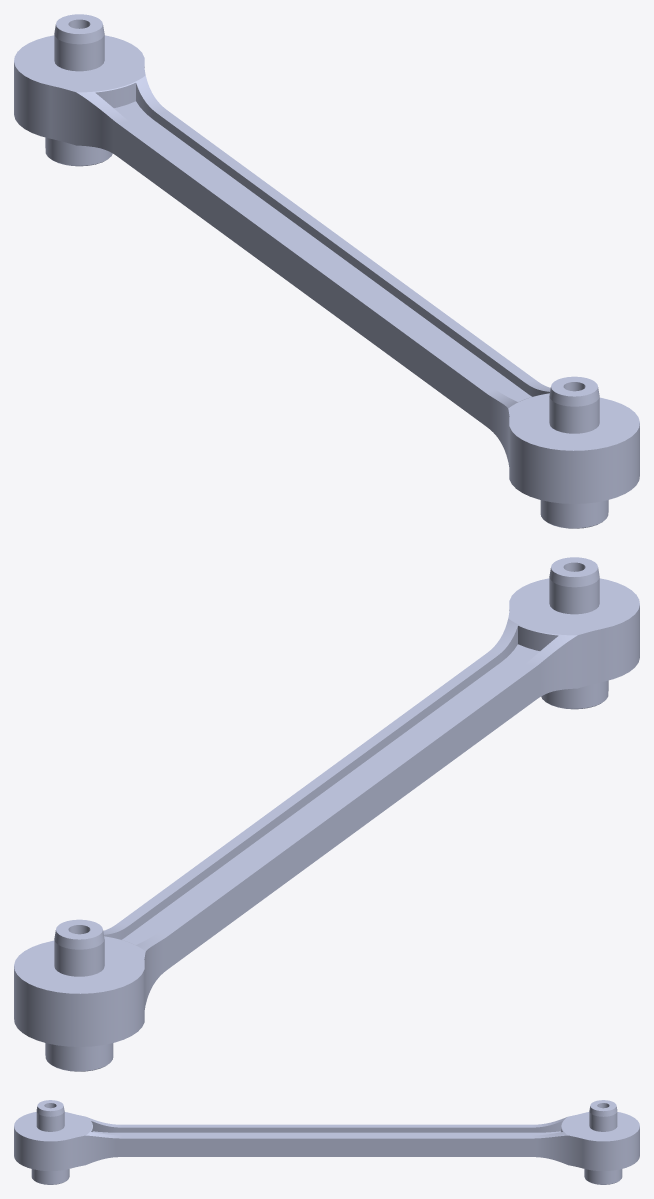
The model's file is IRB460_P_LINK.glb.
3 renders of one model, top to bottom at view 1: azimuth 30°, elevation 25°; view 2: azimuth 150°, elevation 25°; view 3: azimuth 270°, elevation 25°, orthographic. The views are drawn at different scales.
Parts seen in each view (by area): view 1: IRB460_P_LINK; view 2: IRB460_P_LINK; view 3: IRB460_P_LINK.
Part boxes in pixels (x1=…): IRB460_P_LINK: x1=14, y1=14, x2=639, y2=528; IRB460_P_LINK: x1=14, y1=557, x2=639, y2=1071; IRB460_P_LINK: x1=14, y1=1100, x2=639, y2=1184.
Size of the model in its own units: 0.1248 by 0.135 by 1.07.
